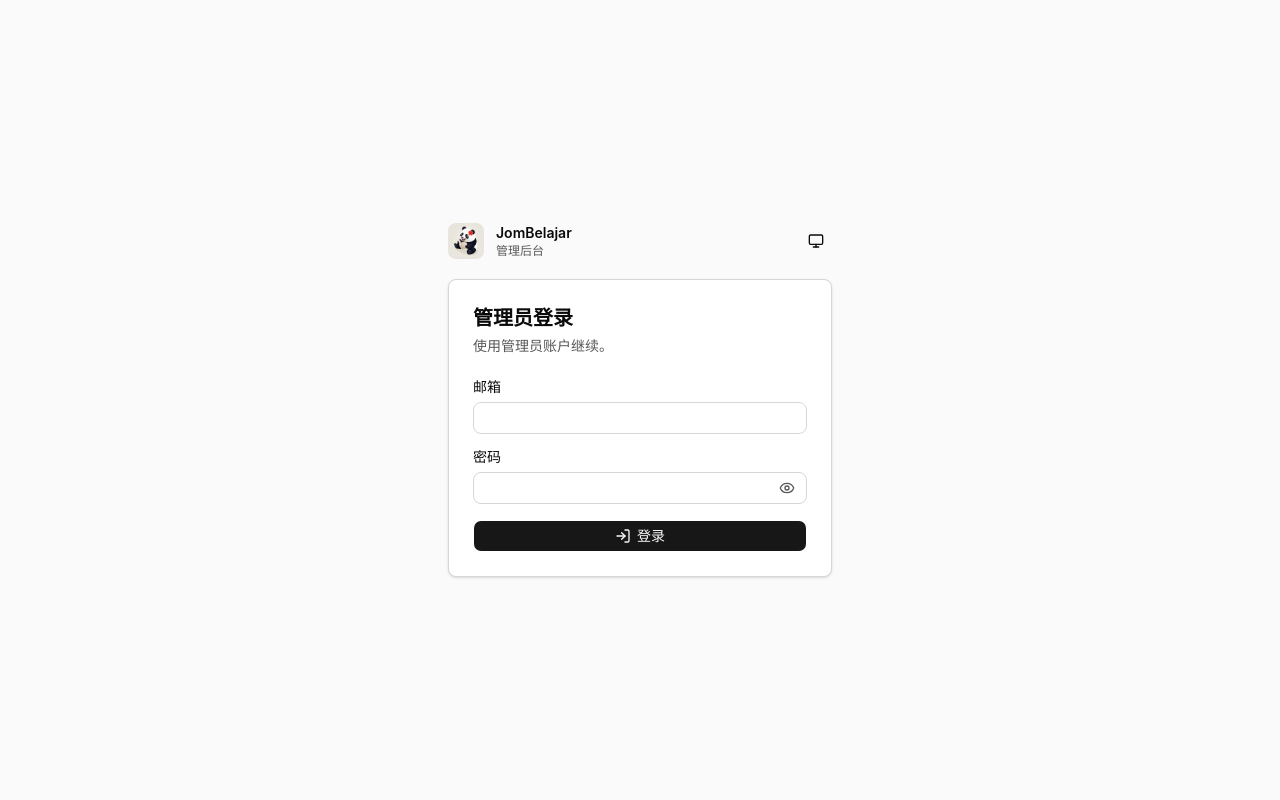
Test: Login › establishes an admin session without placing credentials or tokens in Redux
Type "admin@example.test" into the field labelled "邮箱" at (640, 418), box top-left (473, 402), bottom-right (807, 434)
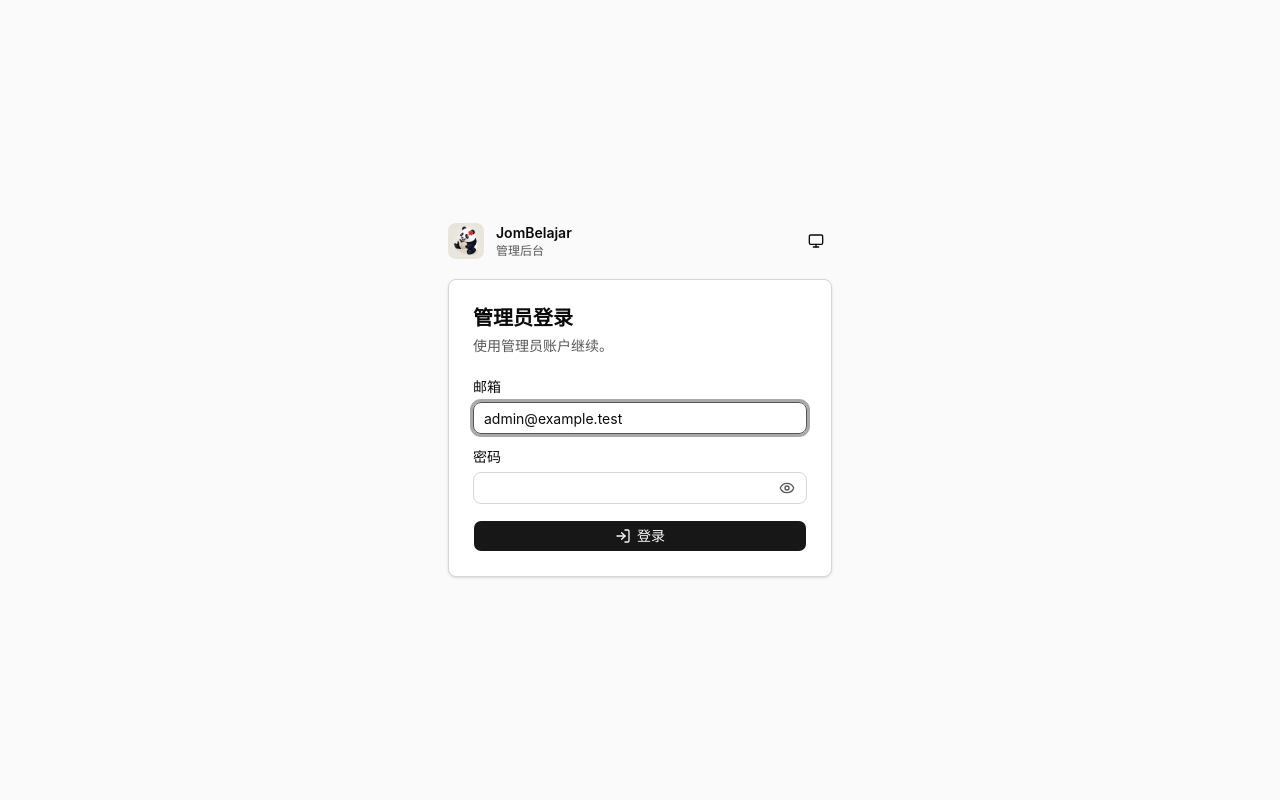
Type "secret-password" into the password field labelled "密码" at (640, 488), box top-left (473, 472), bottom-right (807, 504)
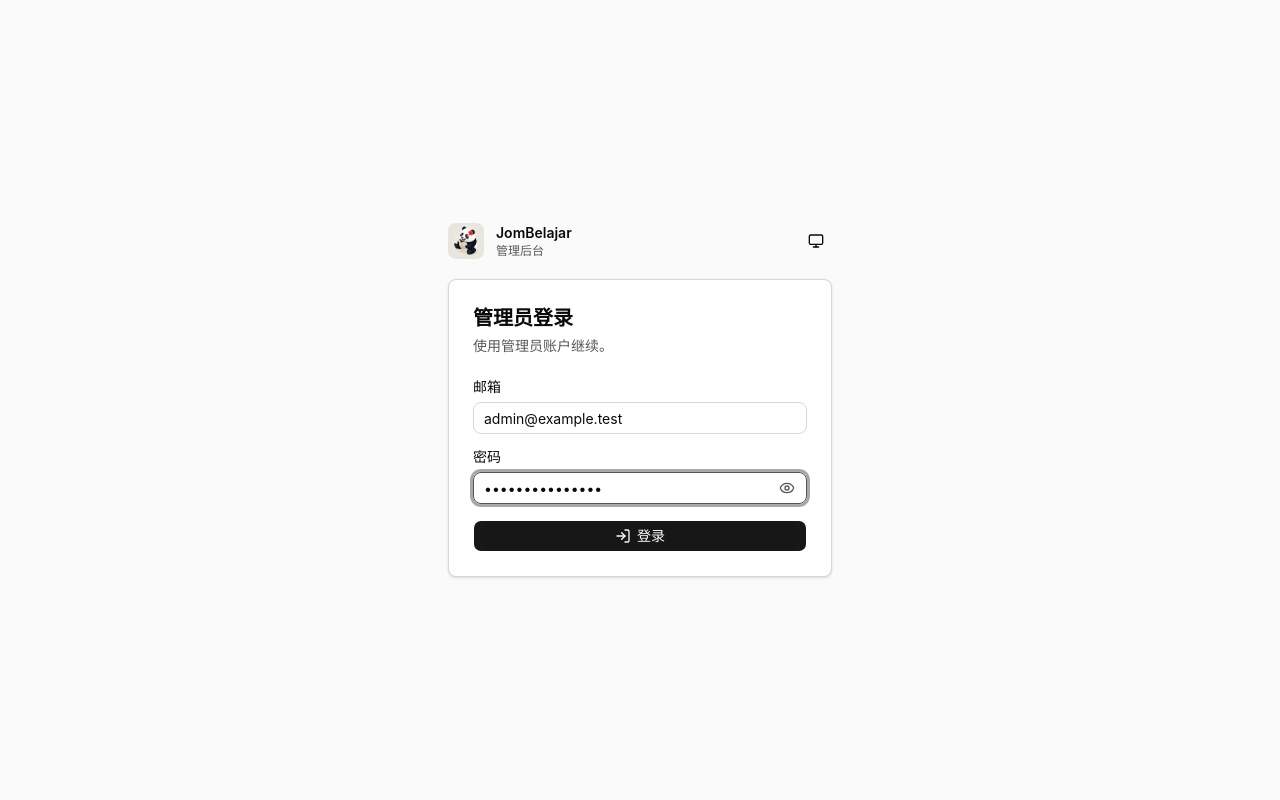
Click the button "登录" at (640, 536), box top-left (473, 520), bottom-right (807, 552)
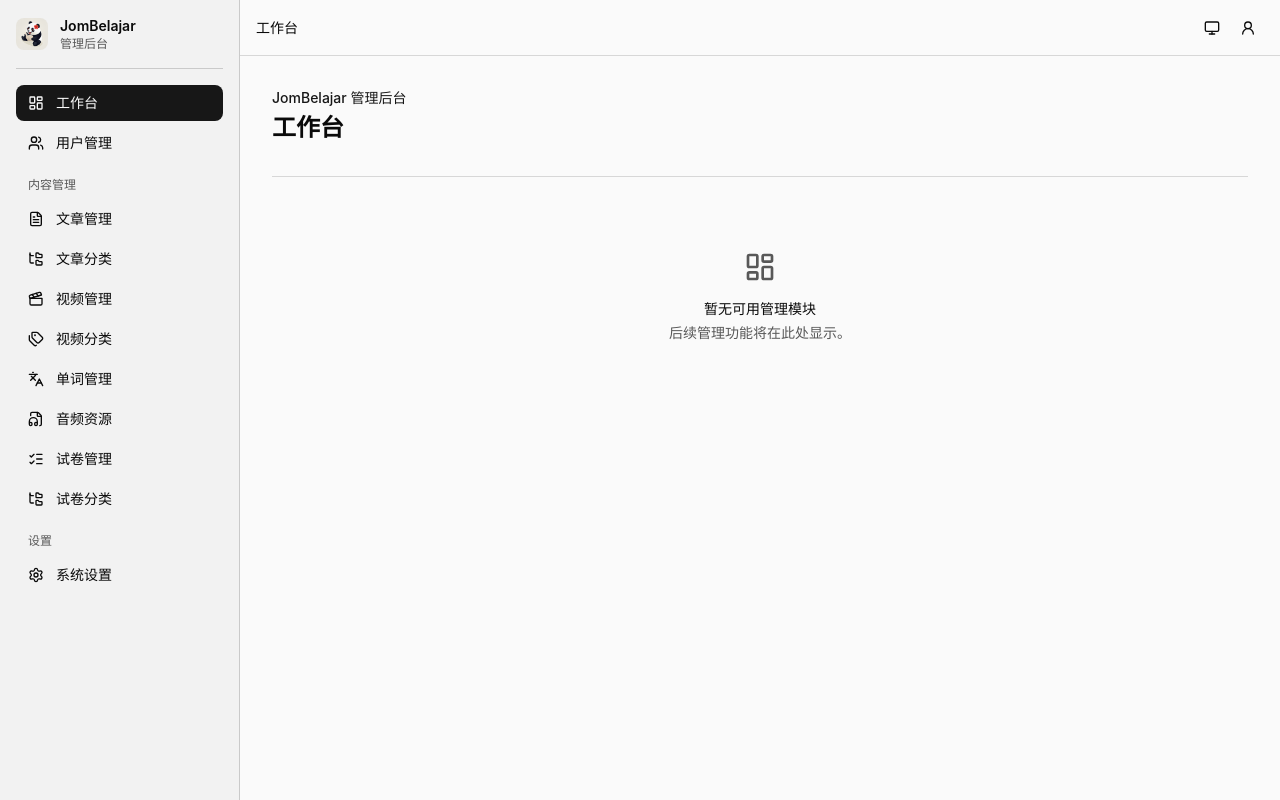
Check: the heading "工作台" is shown, box top-left (272, 113), bottom-right (344, 142)
